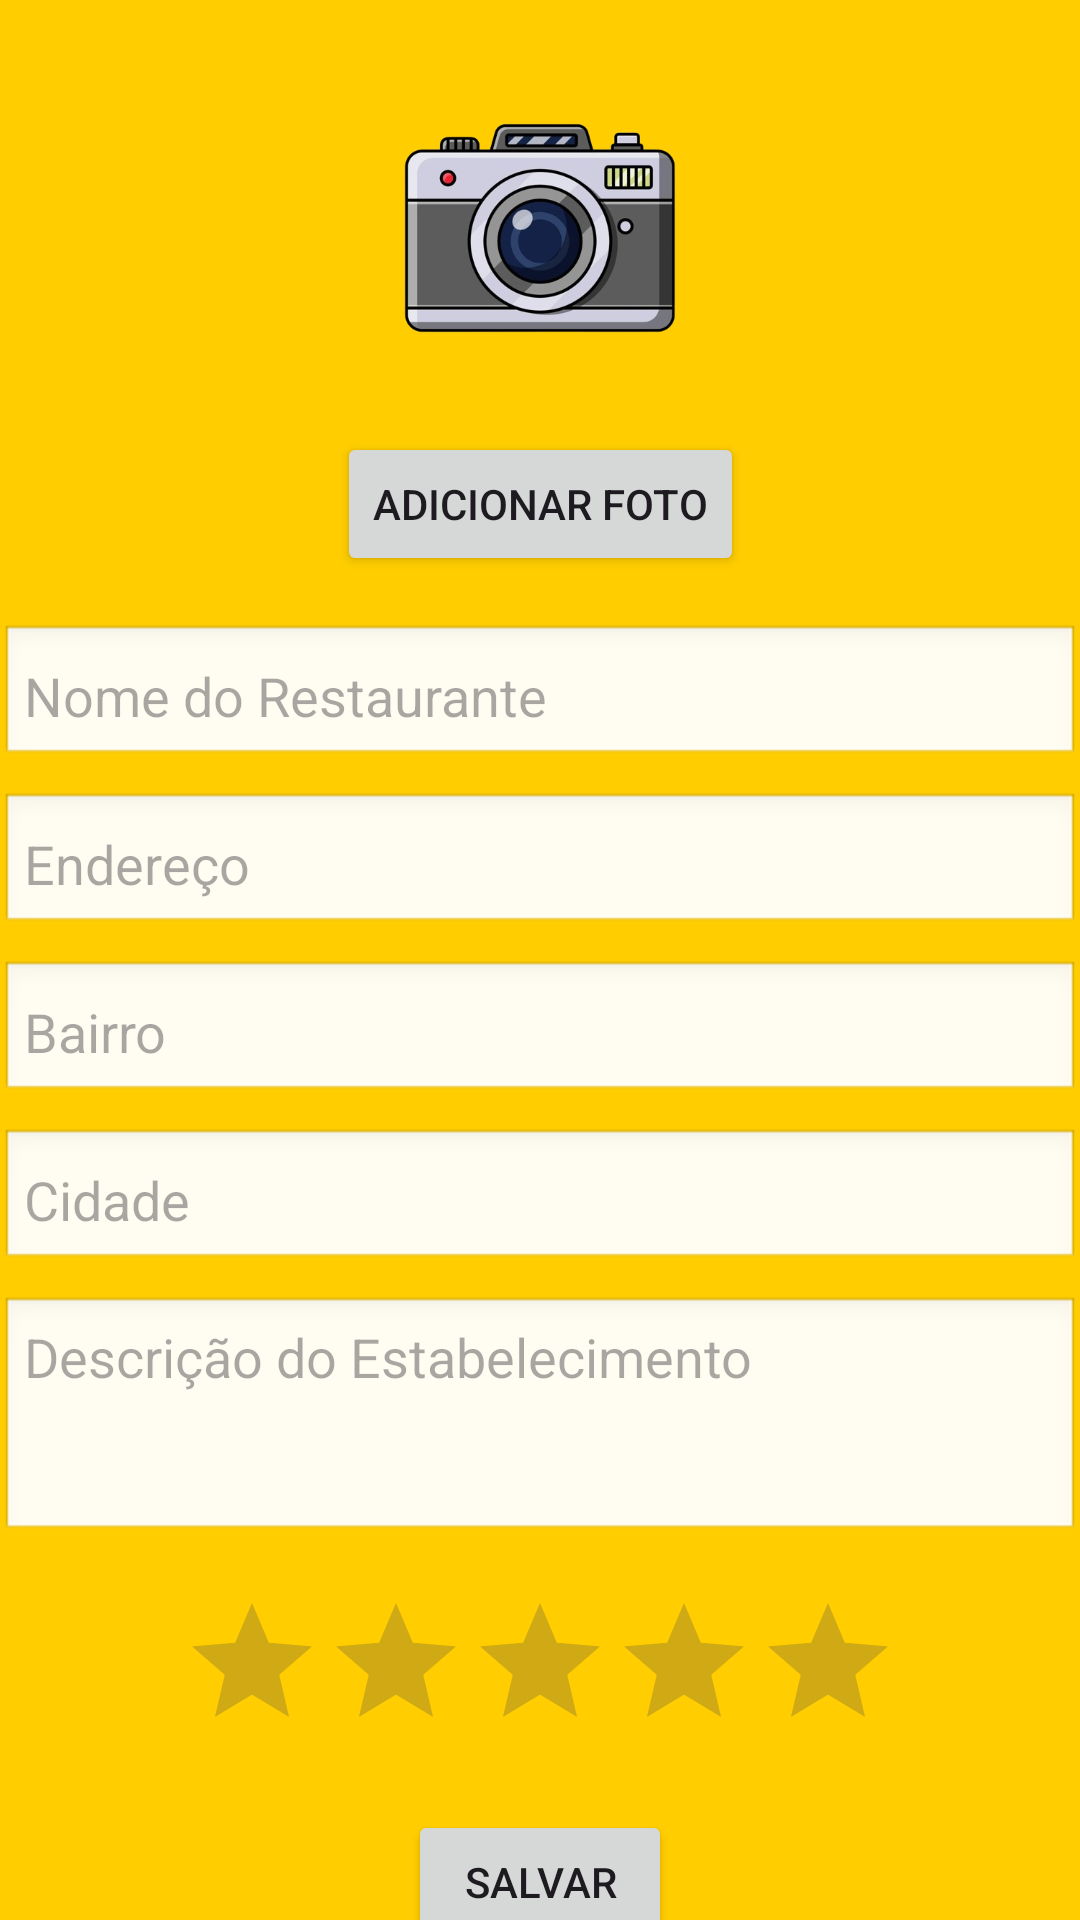

Locate icon controls on the screen. Image size 1080*1920, boxes as (x1, y1, x2, y2).
Foto do Restaurante: (404, 124, 675, 332)
